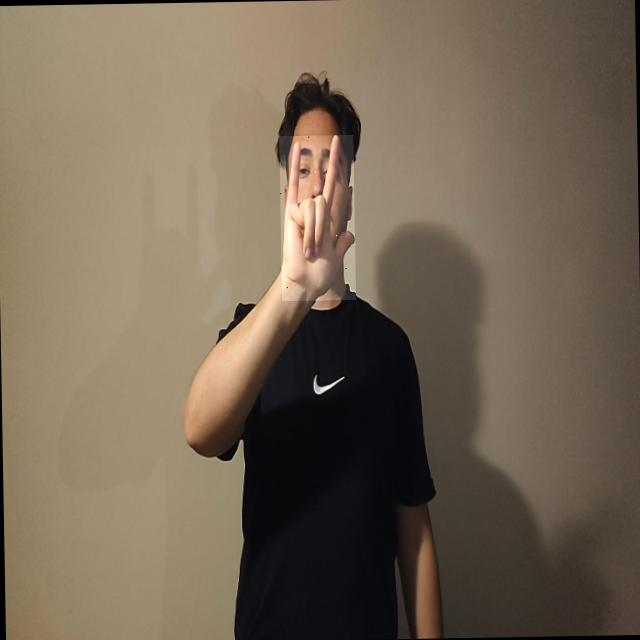iloveyou: (278, 135, 356, 302)
